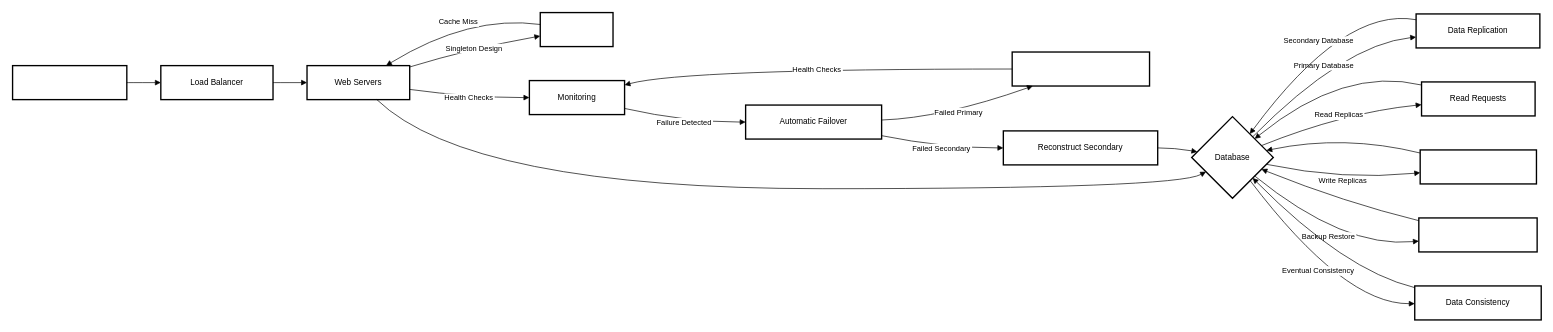
Image size: 1553x332. Some labels were removed from this diagram. The centre of each missing label's shape, as x and y in pixels:
"Backup Storage" goes at pixel 1477 234.
"Cache" goes at pixel 576 29.
"Client Request" goes at pixel 69 82.
"Promote Secondary" goes at pixel 1080 68.
"Write Requests" goes at pixel 1478 166.
